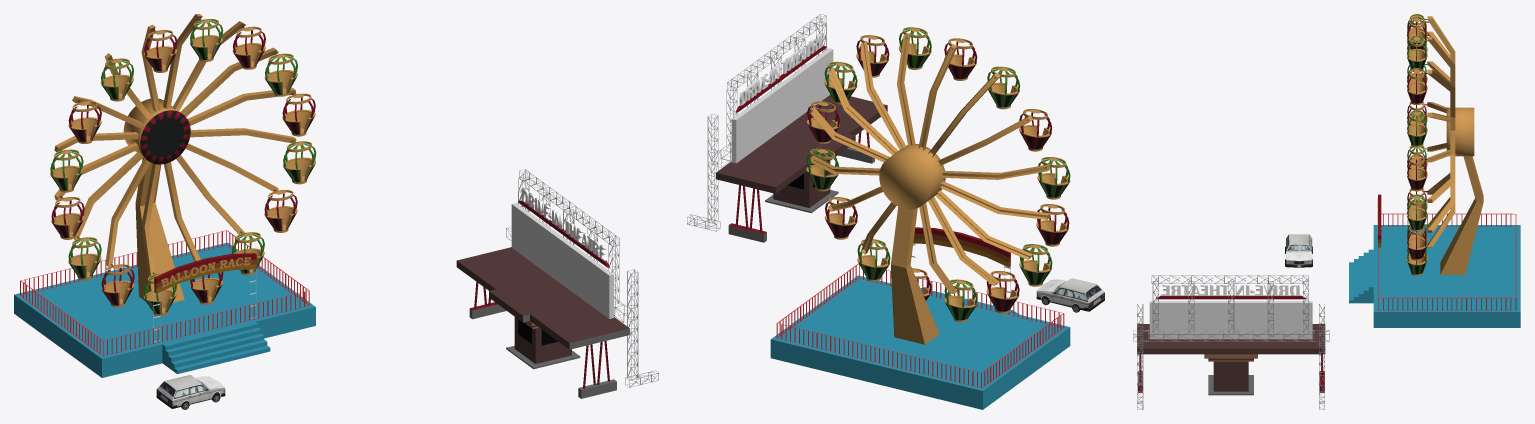
The picture shows the model from 3 angles, left to right: view 1: azimuth 30°, elevation 25°; view 2: azimuth 150°, elevation 25°; view 3: azimuth 270°, elevation 25°; orthographic projection. The views are drawn at different scales.
Visible parts, largest first — view 1: base, ferriswheel, building base, screen, gate, metal supports, ferriswheel base, Car.001, balloon race sign, side supports, sign, Circle.013 (+15 smaller); view 2: base, ferriswheel, building base, screen, gate, ferriswheel base, metal supports, Car.001, balloon race sign, side supports, sign, Circle.015 (+15 smaller); view 3: base, screen, building base, ferriswheel, metal supports, ferriswheel base, gate, sign, Car.001, sign base, Circle.005, Circle.007 (+5 smaller).
Part boxes in pixels (x1=…): base: x1=14, y1=242, x2=315, y2=377; ferriswheel: x1=54, y1=14, x2=296, y2=275; building base: x1=456, y1=247, x2=629, y2=369; screen: x1=511, y1=203, x2=613, y2=318; gate: x1=20, y1=230, x2=309, y2=355; metal supports: x1=506, y1=169, x2=658, y2=387; ferriswheel base: x1=135, y1=157, x2=184, y2=302; Car.001: x1=156, y1=375, x2=225, y2=408; balloon race sign: x1=154, y1=253, x2=256, y2=293; side supports: x1=469, y1=282, x2=616, y2=398; sign: x1=521, y1=188, x2=606, y2=261; Circle.013: x1=68, y1=236, x2=101, y2=280; base: x1=770, y1=275, x2=1070, y2=409; ferriswheel: x1=810, y1=33, x2=1050, y2=293; building base: x1=716, y1=95, x2=887, y2=213; screen: x1=731, y1=48, x2=833, y2=163; gate: x1=776, y1=263, x2=1064, y2=388; ferriswheel base: x1=891, y1=207, x2=939, y2=344; metal supports: x1=687, y1=14, x2=836, y2=231; Car.001: x1=1036, y1=278, x2=1104, y2=311; balloon race sign: x1=913, y1=227, x2=1010, y2=267; side supports: x1=728, y1=131, x2=874, y2=242; sign: x1=739, y1=33, x2=823, y2=105; Circle.015: x1=1037, y1=157, x2=1070, y2=199; base: x1=1349, y1=225, x2=1520, y2=327; screen: x1=1149, y1=301, x2=1312, y2=339; building base: x1=1137, y1=324, x2=1325, y2=395; ferriswheel: x1=1427, y1=16, x2=1474, y2=247; metal supports: x1=1133, y1=275, x2=1329, y2=409; ferriswheel base: x1=1440, y1=156, x2=1483, y2=274; gate: x1=1378, y1=213, x2=1516, y2=310; sign: x1=1161, y1=285, x2=1299, y2=295; Car.001: x1=1286, y1=234, x2=1312, y2=267; sign base: x1=1156, y1=295, x2=1306, y2=299; Circle.005: x1=1407, y1=110, x2=1427, y2=147; Circle.007: x1=1407, y1=194, x2=1427, y2=231.
Size of what is drawn, in the model's own units: 27.7 by 18.45 by 25.25.
20 materials, 5 textured.
